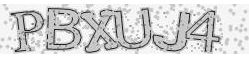4: (185, 10, 221, 55)
B: (46, 7, 81, 51)
J: (152, 10, 191, 53)
P: (9, 10, 45, 52)
U: (113, 9, 152, 49)
X: (80, 9, 118, 54)
